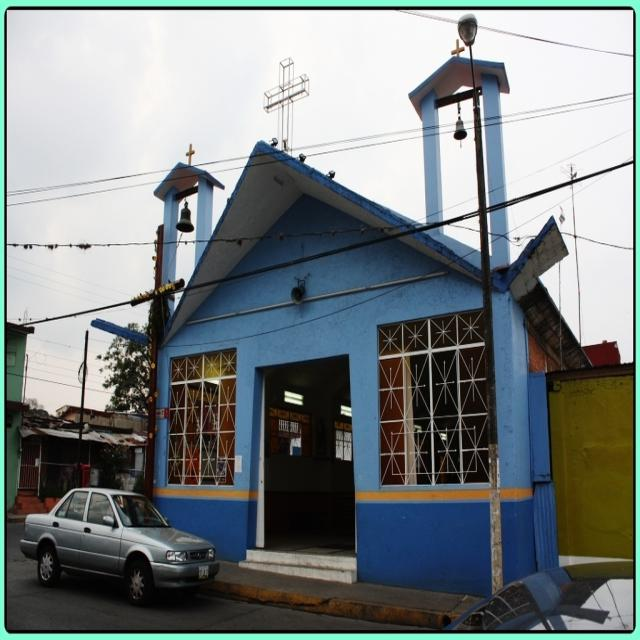car: (22, 486, 218, 600)
